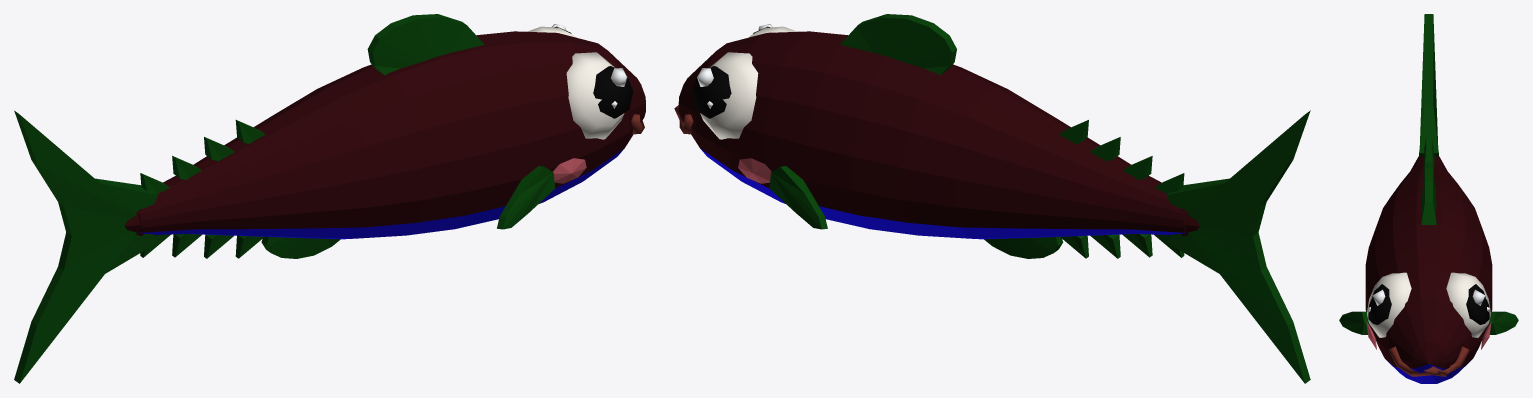
The model's file is fish-ca-ngu.glb.
3 views of the same model, side by side, from view 1: azimuth 30°, elevation 25°; view 2: azimuth 150°, elevation 25°; view 3: azimuth 270°, elevation 25° (orthographic). The views are drawn at different scales.
Parts seen in each view (by area): view 1: body, tail; view 2: body, tail; view 3: body, tail.
Part boxes in pixels (<box>): body: <box>138,14,645,258</box>; tail: <box>14,110,158,383</box>; body: <box>674,14,1185,258</box>; tail: <box>1166,110,1310,383</box>; body: <box>1339,134,1518,383</box>; tail: <box>1419,14,1438,157</box>.
Size of the model in its own units: 0.9799 by 0.4 by 0.3073.
